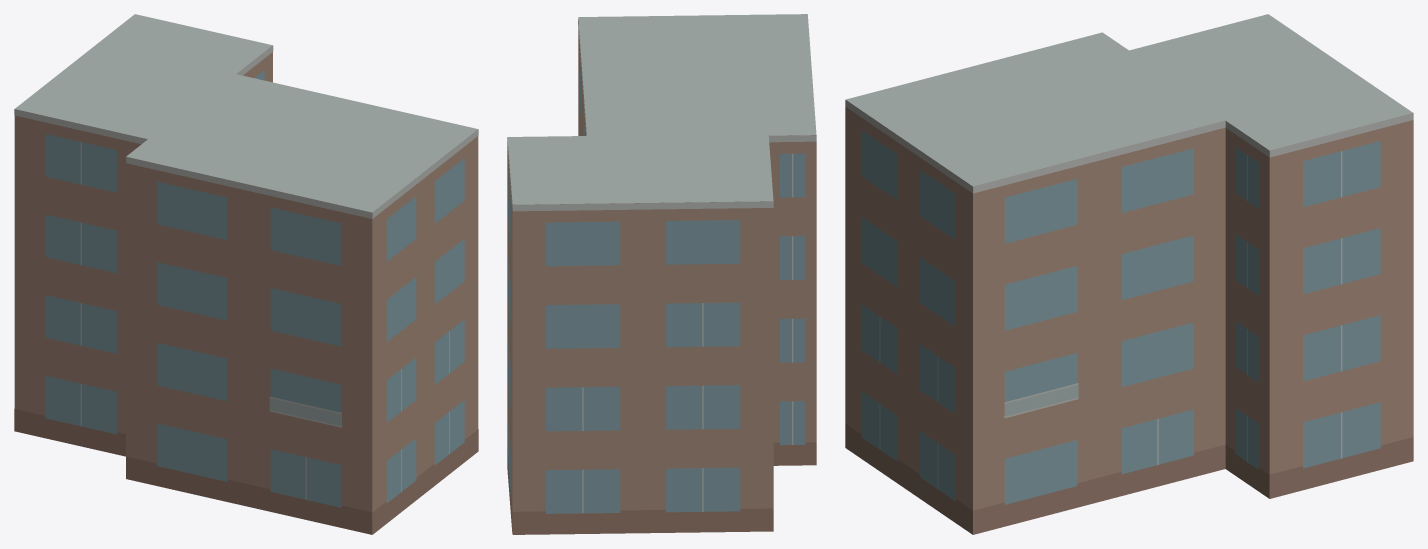
The model's file is residential-48e4d970-40c6-4fee-80ee-b0203b1091c2.glb.
The picture shows the model from 3 angles, left to right: view 1: azimuth 30°, elevation 25°; view 2: azimuth 150°, elevation 25°; view 3: azimuth 270°, elevation 25°; orthographic projection. The views are drawn at different scales.
Visible parts, largest first — view 1: residential-48e4d970-40c6-4fee-80ee-b0203b1091c2.tmp; view 2: residential-48e4d970-40c6-4fee-80ee-b0203b1091c2.tmp; view 3: residential-48e4d970-40c6-4fee-80ee-b0203b1091c2.tmp.
Part boxes in pixels (x1,y1,x2,y2): residential-48e4d970-40c6-4fee-80ee-b0203b1091c2.tmp: [14, 14, 478, 534]; residential-48e4d970-40c6-4fee-80ee-b0203b1091c2.tmp: [507, 14, 816, 534]; residential-48e4d970-40c6-4fee-80ee-b0203b1091c2.tmp: [845, 14, 1413, 534].
Bounding box in the file's own units: 12.98 × 12.2 × 18.04.
